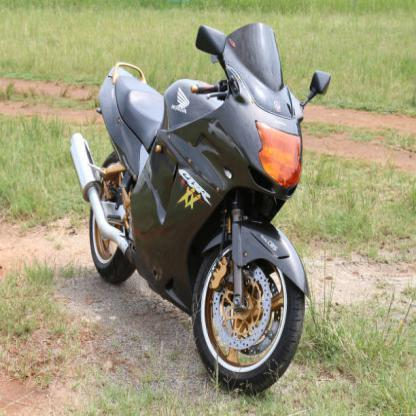Motorcycle: (62, 6, 335, 397)
